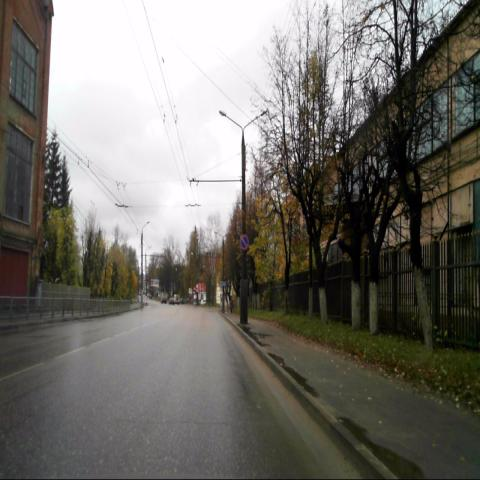3_28: (239, 234, 248, 250)
